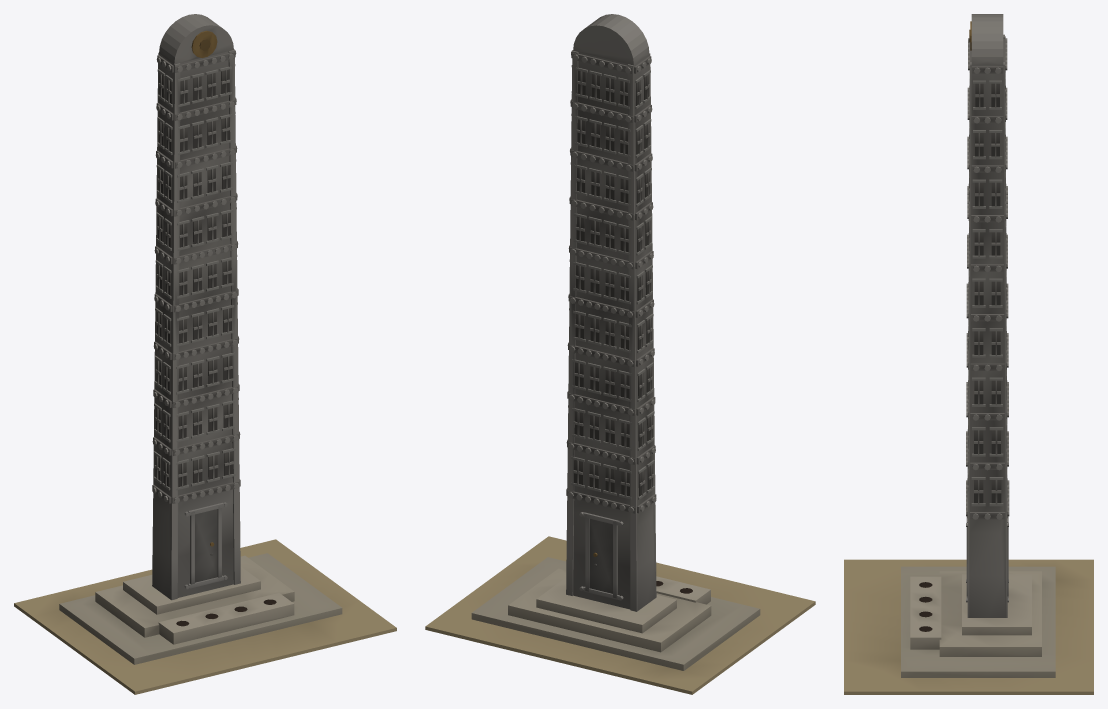
File: ezana-stele.glb
3 renders of one model, left to right at view 1: azimuth 30°, elevation 25°; view 2: azimuth 150°, elevation 25°; view 3: azimuth 270°, elevation 25°, orthographic. The views are drawn at different scales.
Parts seen in each view (by area): view 1: p1_stele, p0_platform; view 2: p1_stele, p0_platform; view 3: p0_platform, p1_stele.
Part boxes in pixels (x1=…): p1_stele: x1=152, y1=14, x2=240, y2=600; p0_platform: x1=14, y1=539, x2=396, y2=694; p1_stele: x1=566, y1=14, x2=656, y2=611; p0_platform: x1=425, y1=536, x2=815, y2=694; p0_platform: x1=844, y1=559, x2=1093, y2=694; p1_stele: x1=966, y1=14, x2=1009, y2=617.
Bounding box in the file's own units: 10 × 21.6 × 8.
